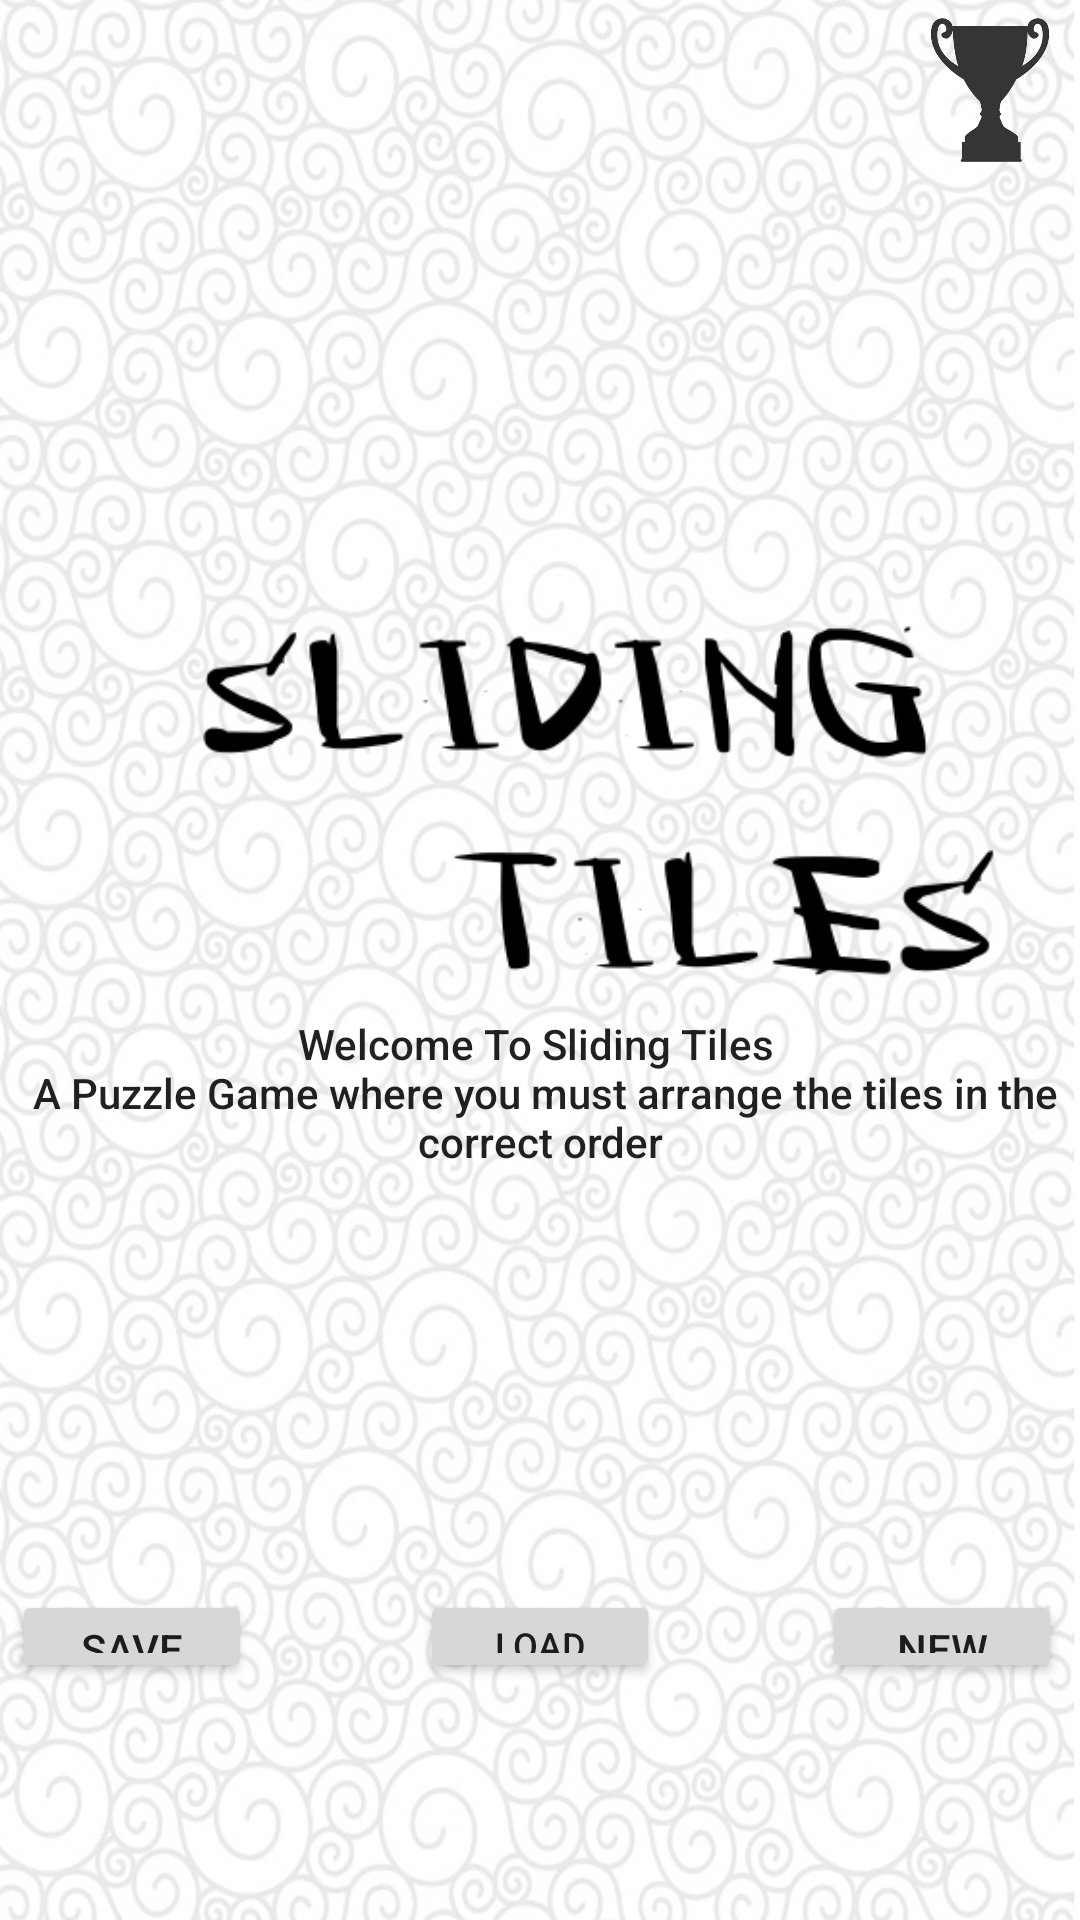

Named icons in this screenshot (1080w x 1920h) and their centers, point (x, y):
scoreboard: point (984, 90)
